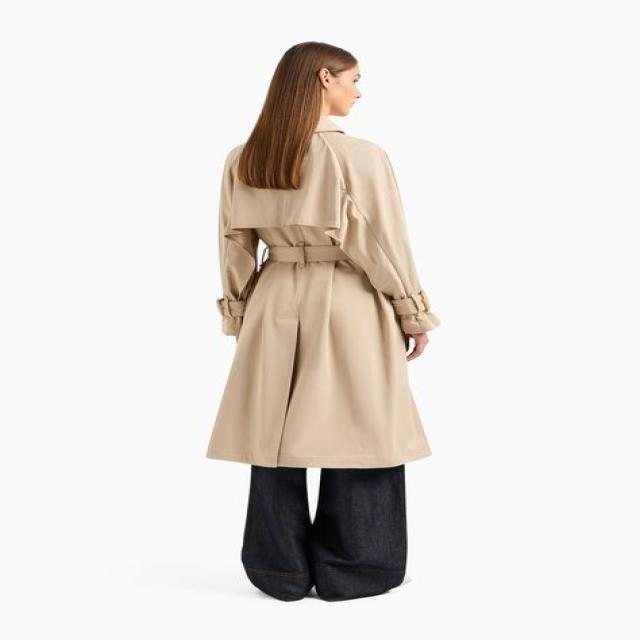coat: (204, 116, 438, 470)
trousers: (238, 451, 412, 604)
